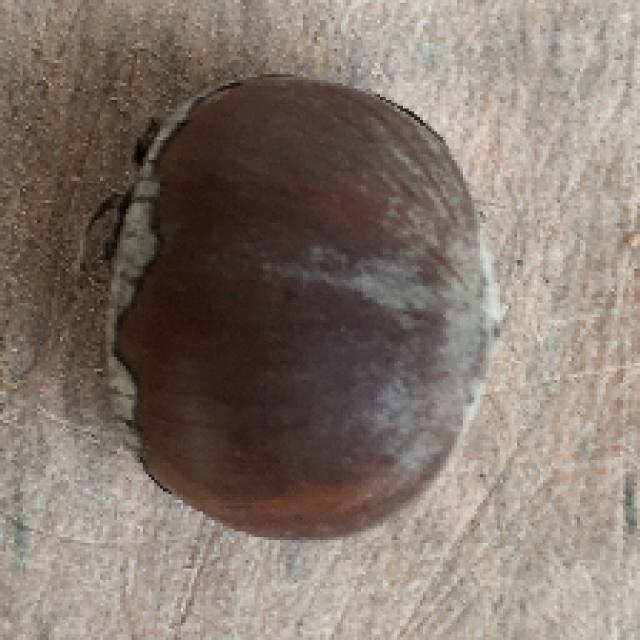damagedHazelnut: (86, 69, 499, 539)
